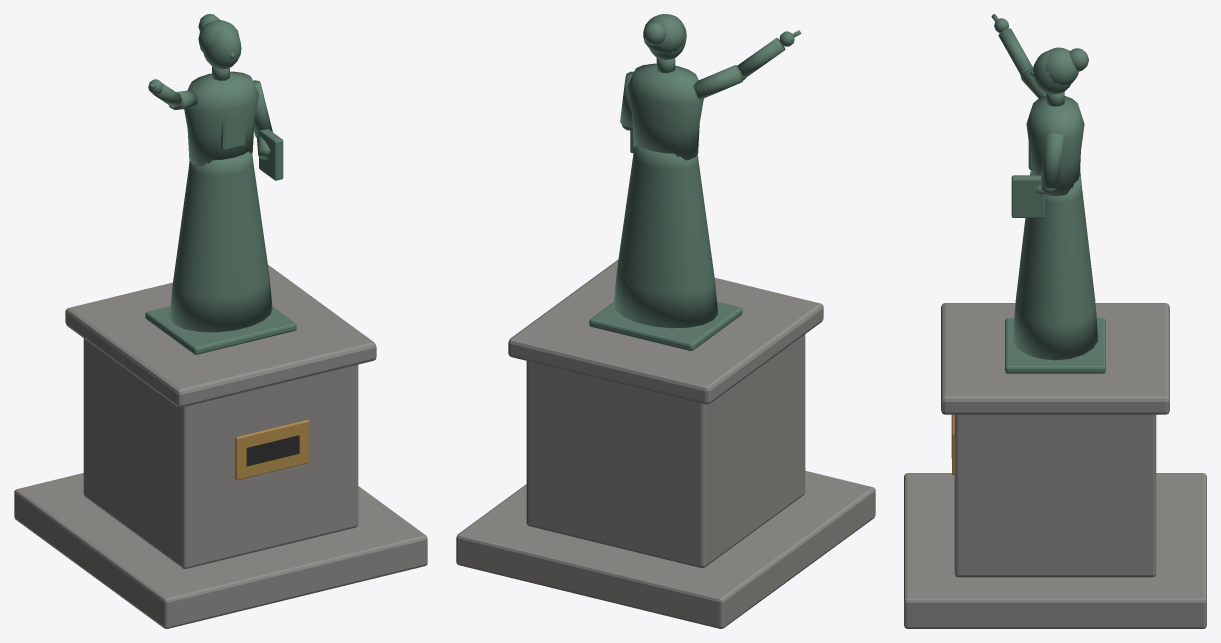
Rendered from townStatue.glb.
3 renders of one model, left to right at view 1: azimuth 30°, elevation 25°; view 2: azimuth 150°, elevation 25°; view 3: azimuth 270°, elevation 25°, orthographic.
Visible parts, largest first — view 1: townStatue; view 2: townStatue; view 3: townStatue.
Part boxes in pixels (x1,y1,x2,y2): townStatue: (14,14,427,628); townStatue: (456,14,875,628); townStatue: (904,14,1206,628).
Bounding box in the file's own units: 1.8 × 3.39 × 1.8.
